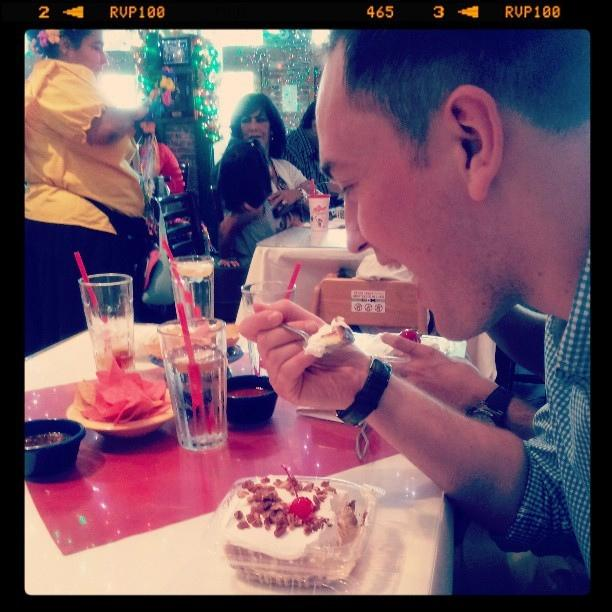cherry: (281, 464, 313, 521), (399, 329, 422, 344)
